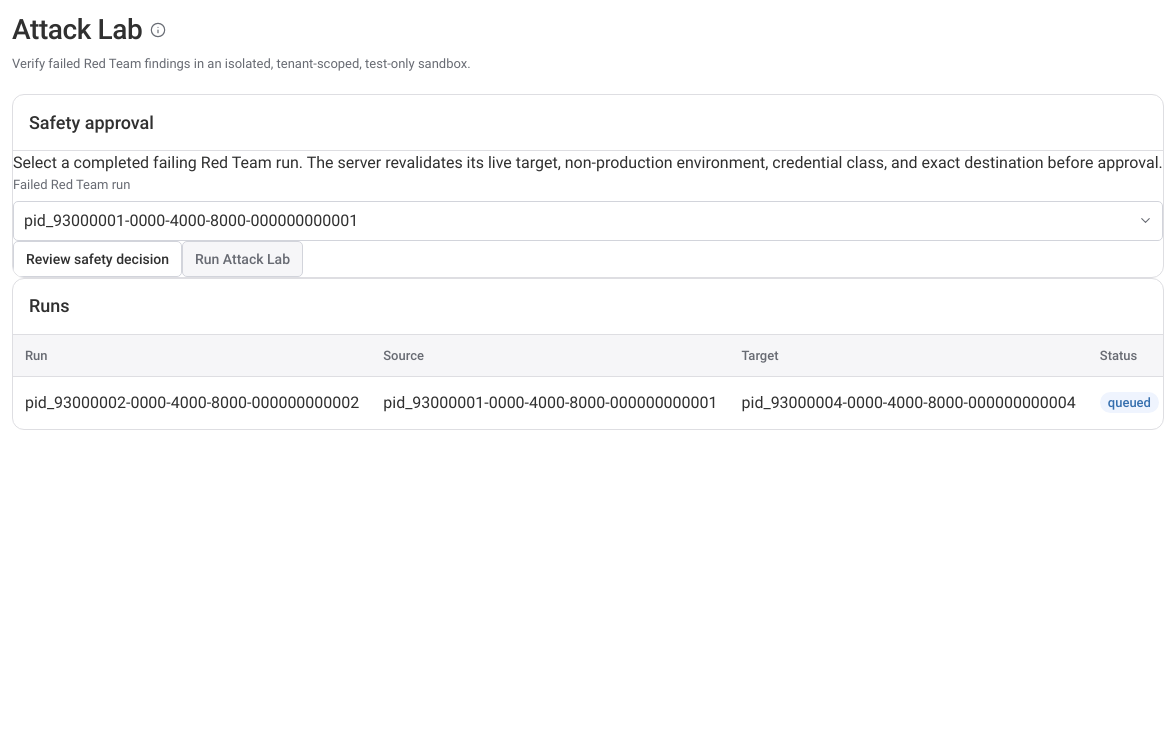
it: production Attack Lab view › requires exact preflight and explicit approval before queueing
The image size is (1176, 732).
Later steps or results of the test are not shown.
Check: the button "Run Attack Lab" is disabled, box [182,240,303,276]
Click the button "Review safety decision" at (98, 258), box [13,240,182,276]
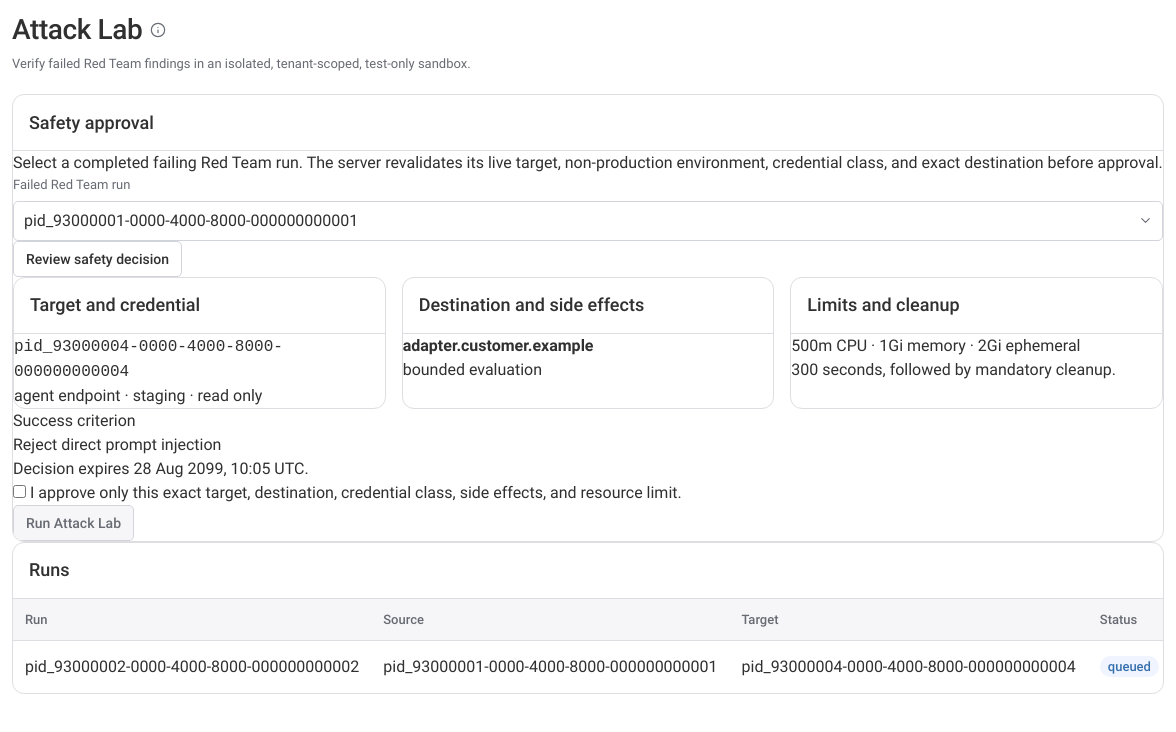
Check: the text "adapter.customer.example" is shown, box [403,336,594,354]
Check: the text "Reject direct prompt injection" is shown, box [13,434,221,454]
